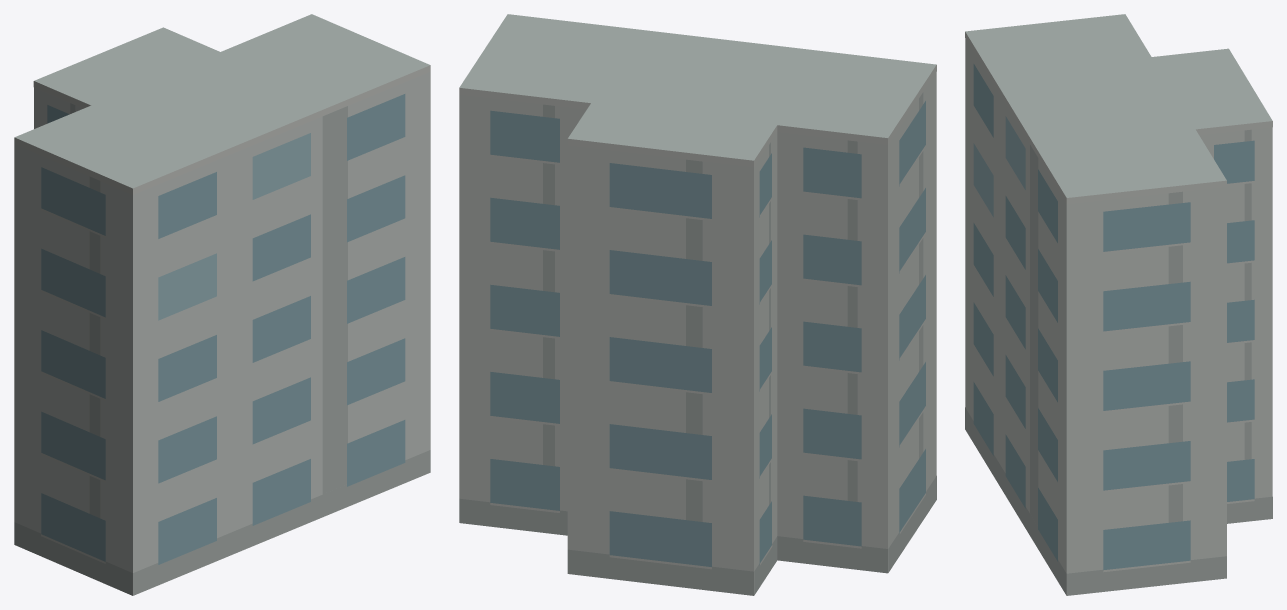
File: residential-ee507cbe-7ac7-4ca2-b627-02252f0a4d85.glb
3 views of the same model, side by side, from view 1: azimuth 30°, elevation 25°; view 2: azimuth 150°, elevation 25°; view 3: azimuth 270°, elevation 25° (orthographic). The views are drawn at different scales.
Visible parts, largest first — view 1: residential-ee507cbe-7ac7-4ca2-b627-02252f0a4d85.tmp; view 2: residential-ee507cbe-7ac7-4ca2-b627-02252f0a4d85.tmp; view 3: residential-ee507cbe-7ac7-4ca2-b627-02252f0a4d85.tmp.
Boxes of the visible parts, x1,y1,x2,y2 form: residential-ee507cbe-7ac7-4ca2-b627-02252f0a4d85.tmp: (14,14,430,595); residential-ee507cbe-7ac7-4ca2-b627-02252f0a4d85.tmp: (459,14,936,595); residential-ee507cbe-7ac7-4ca2-b627-02252f0a4d85.tmp: (965,14,1272,595).
Bounding box in the file's own units: 15.14 × 15.25 × 10.7.
